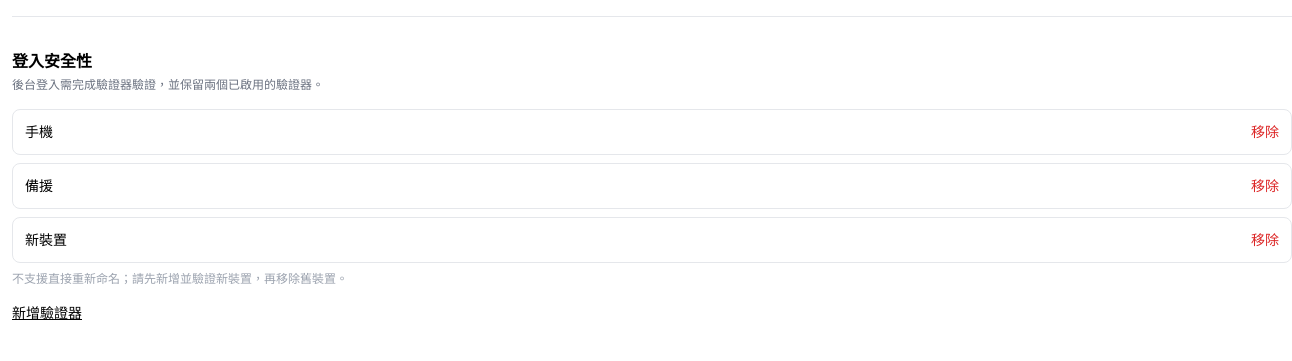
Test: keeps factors intact when removal fails
Click the button with aria-label "移除 新裝置": (1265, 240) [1251, 230, 1279, 250]
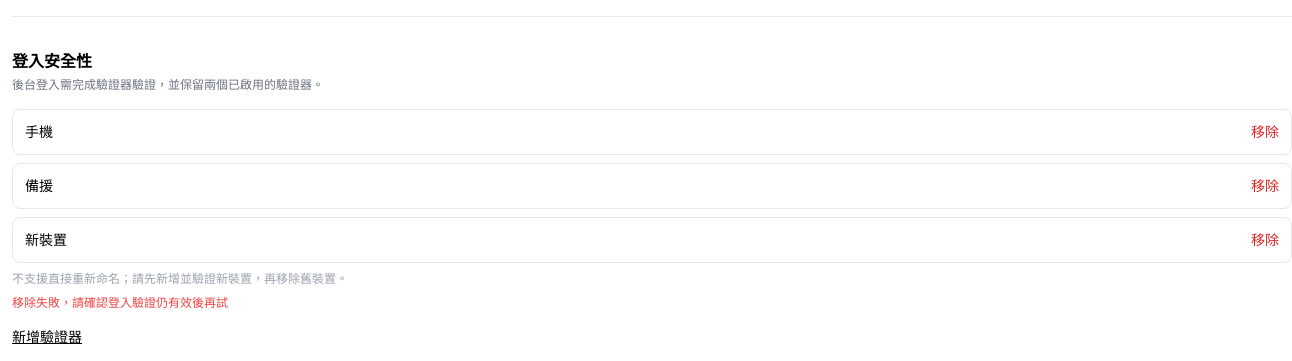
expect the number of buttons "移除" is 3: met, box [1251, 122, 1279, 142]; [1251, 176, 1279, 196]; [1251, 230, 1279, 250]
expect the message reads "移除失敗，請確認登入驗證仍有效後再試": met, box [12, 294, 228, 311]
